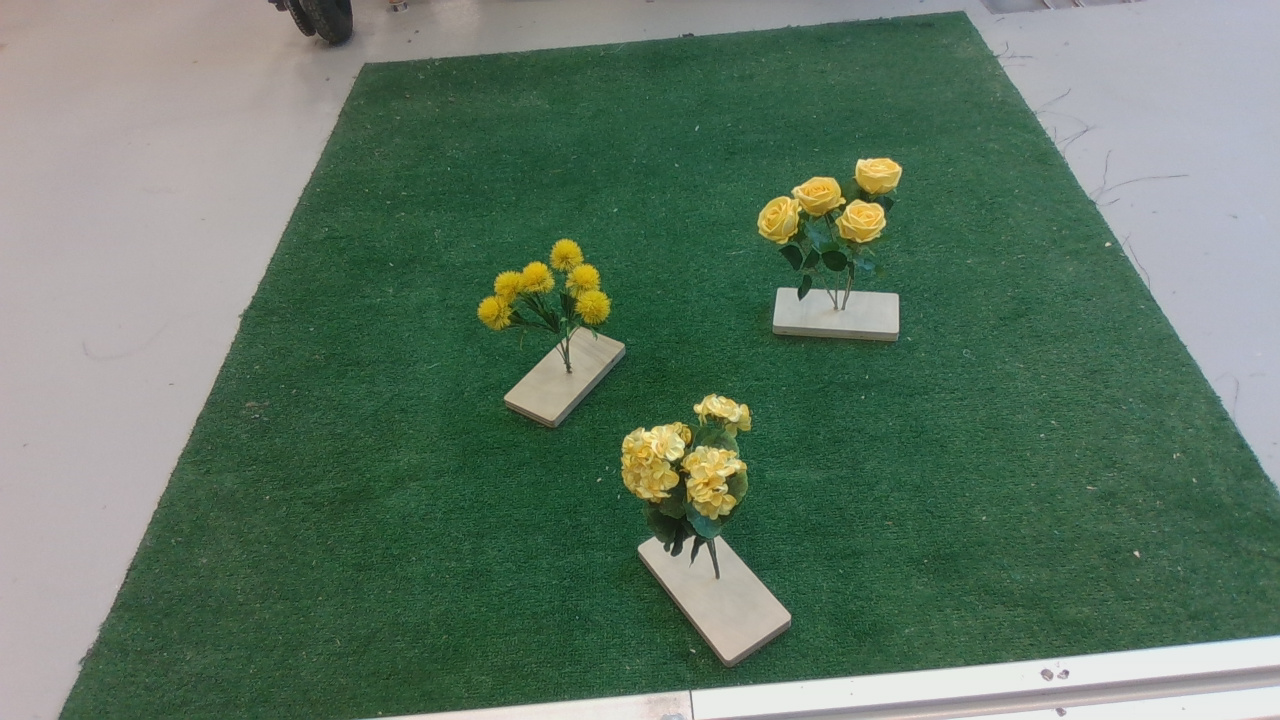dandelion: (465, 241, 625, 356)
geranium: (617, 389, 767, 577)
rose: (754, 155, 920, 298)
